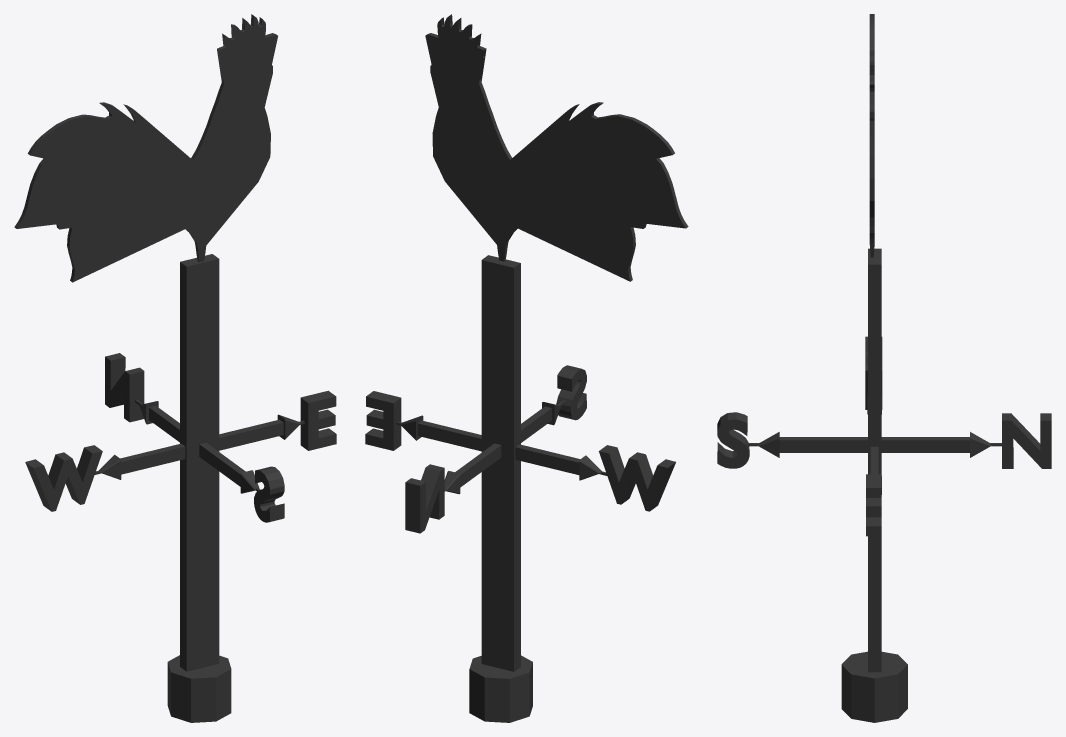
Rendered from WeatherVane_1.fbx.
3 renders of one model, left to right at view 1: azimuth 30°, elevation 25°; view 2: azimuth 150°, elevation 25°; view 3: azimuth 270°, elevation 25°, orthographic.
Visible parts, largest first — view 1: WeatherVane_1; view 2: WeatherVane_1; view 3: WeatherVane_1.
Boxes of the visible parts, box(x1,y1,x2,y2) form: WeatherVane_1: box(14, 14, 336, 722); WeatherVane_1: box(365, 14, 688, 722); WeatherVane_1: box(717, 14, 1051, 722).
Size of the model in its own units: 59.04 by 121 by 53.38.
